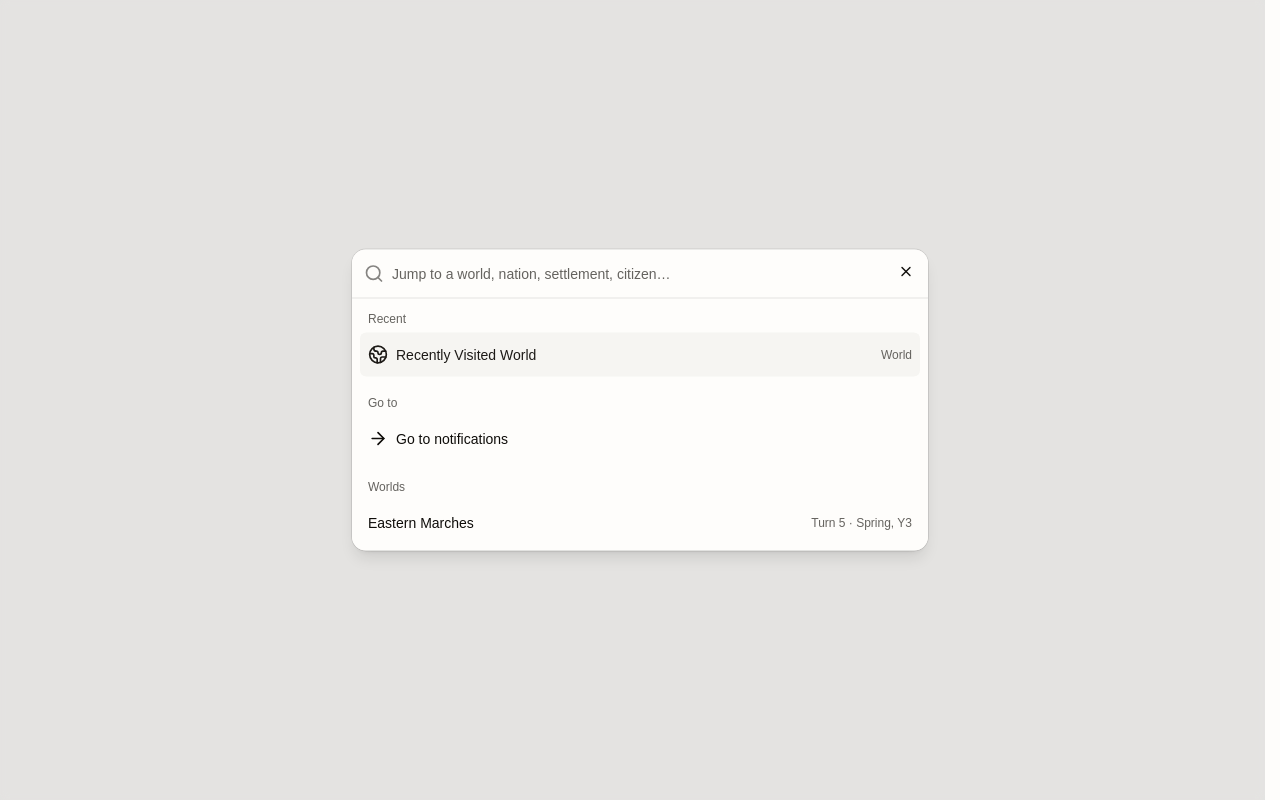
CommandPalette › hides recent pages while a search query is active
Expected: the text "Recently Visited World" is shown, [396,346,536,362]
In the dropdown with placeholder "Jump to a world, nation, settlement, citizen…": [654, 274] box [392,250,916,298], type "no-match-xyz"
Wait 200 ms
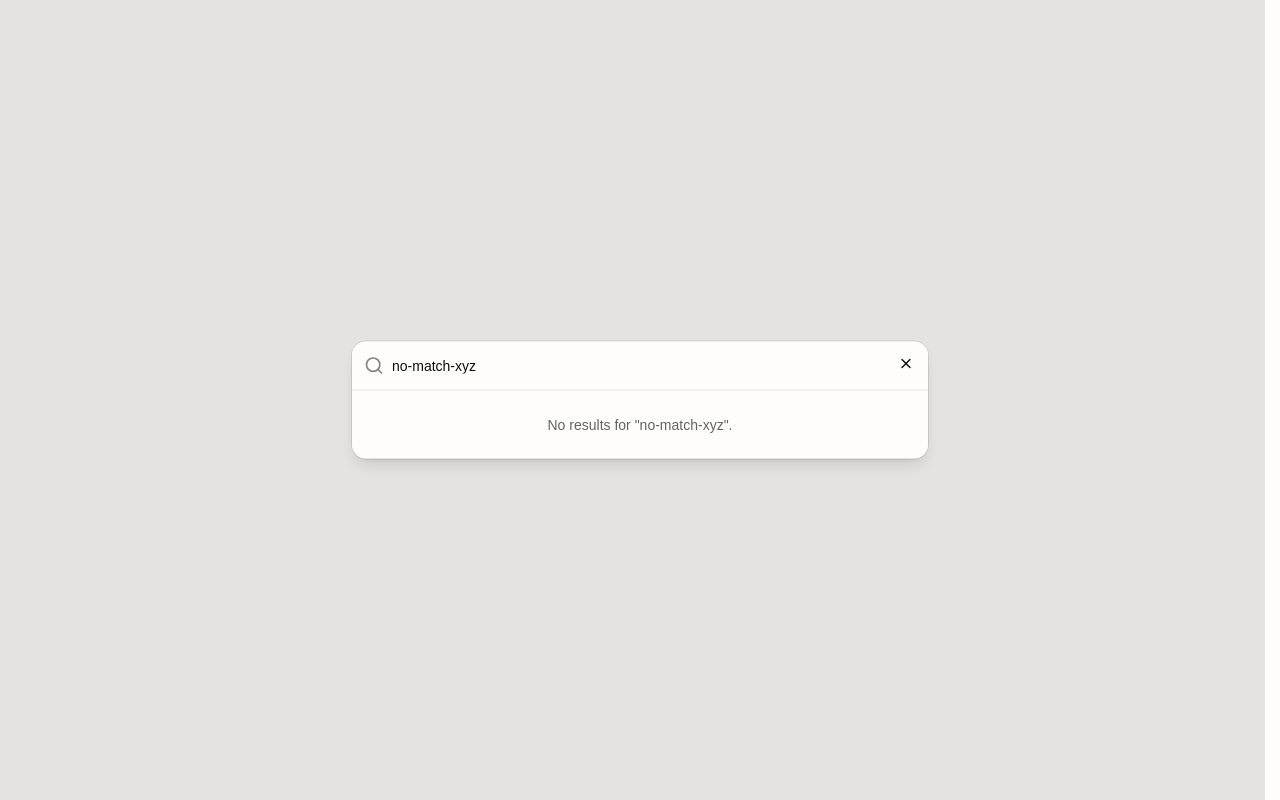
Expected: the option "Recently Visited World" is gone
